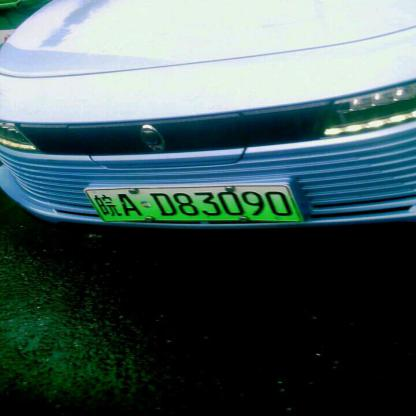lp: (85, 184, 302, 221)
